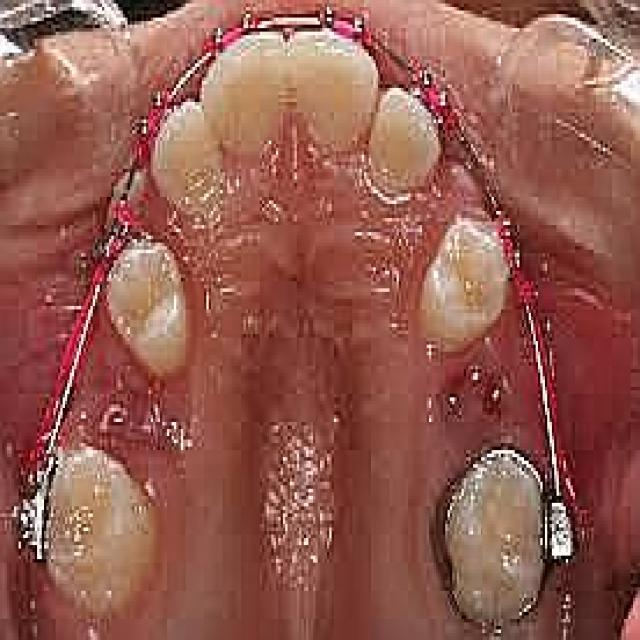caries: (416, 454, 477, 604)
